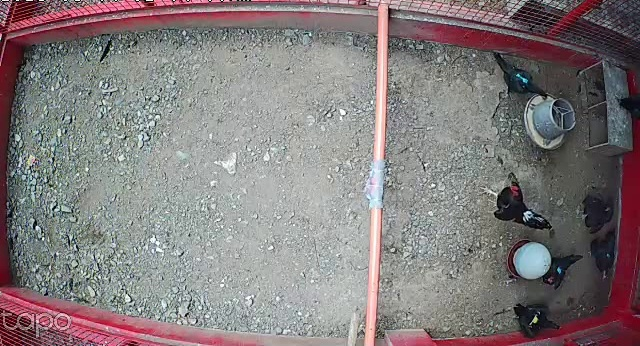Chicken: (489, 49, 550, 102), (511, 301, 561, 338), (540, 249, 585, 290), (586, 228, 619, 282), (576, 194, 615, 237)
Rooster: (478, 176, 555, 235)
Saddle_Color_Blue: (557, 266, 564, 273)
Saddle_Color_Yellow: (530, 309, 541, 325)
